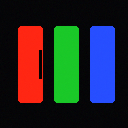4 line_v: (39, 50, 41, 78)
